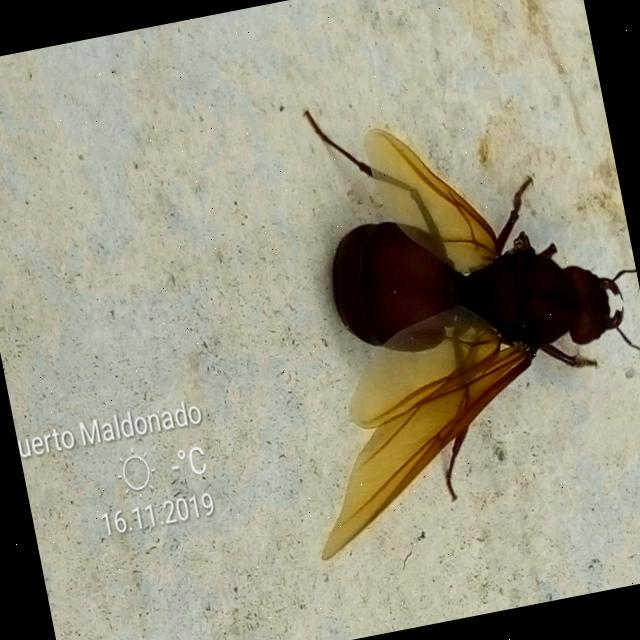Alive-Female-Alate: (235, 50, 640, 561)
